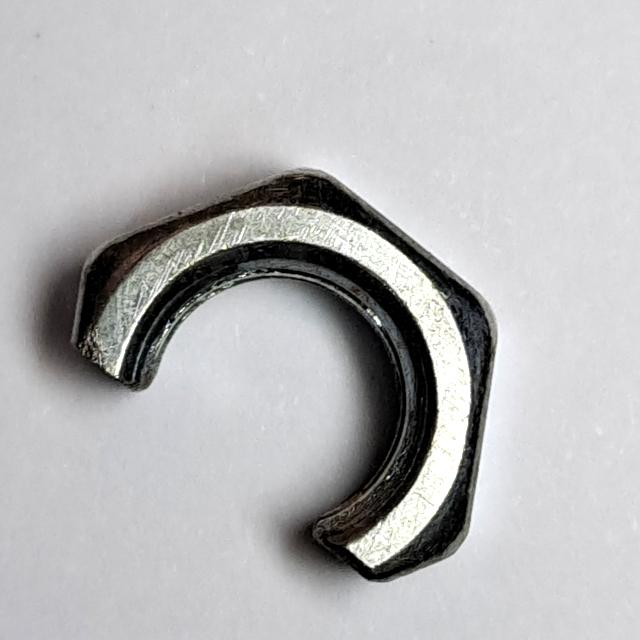Fracture: (64, 153, 510, 595)
